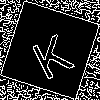K: (25, 25, 75, 81)
